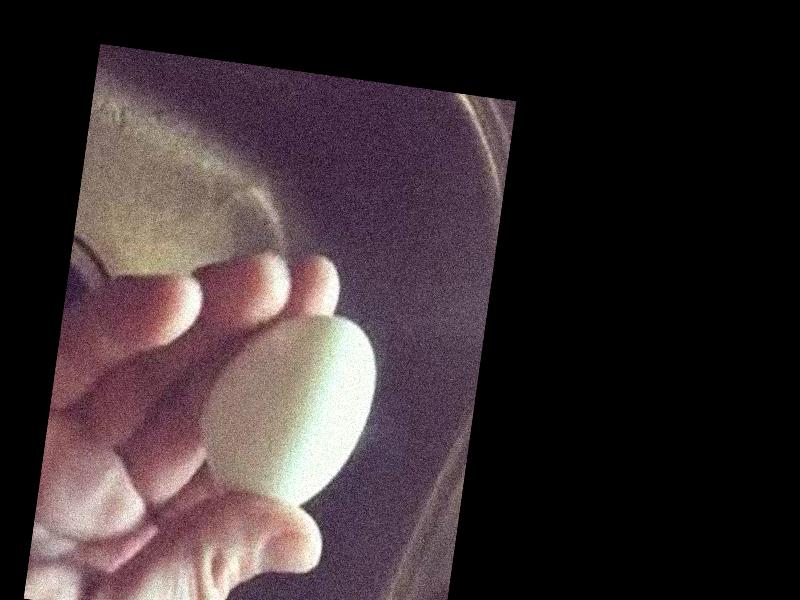Eggs: (195, 304, 383, 518)
